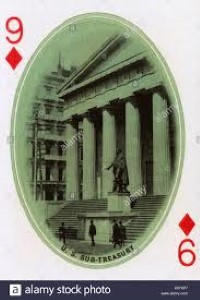NineOfDiamonds: (1, 11, 198, 268)
